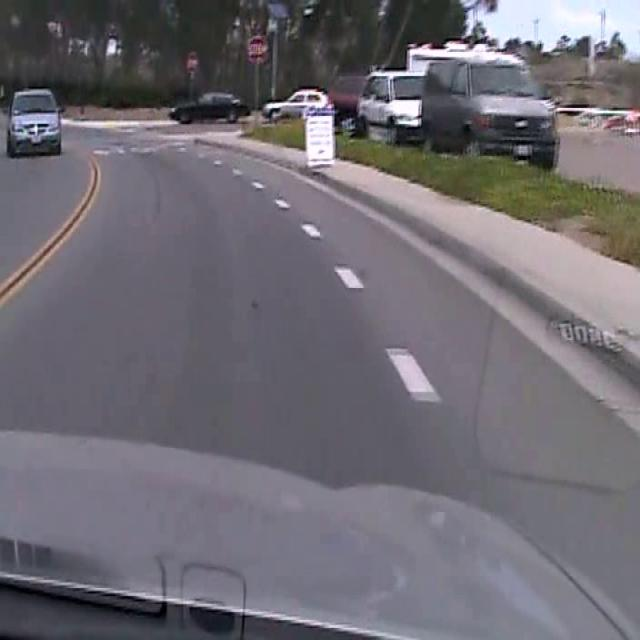stop_sign: (245, 34, 269, 66), (186, 49, 198, 72)
